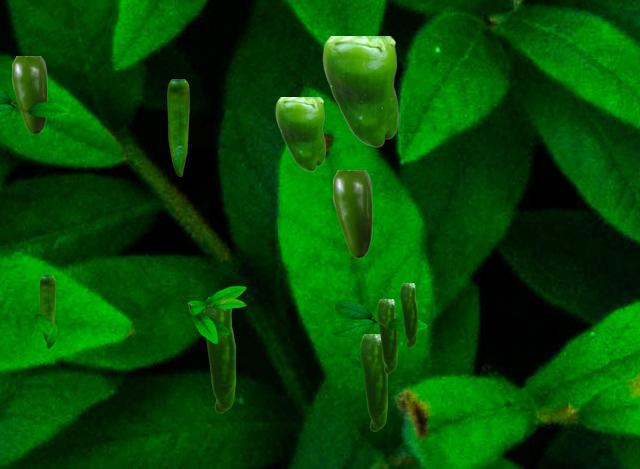green_chili: (322, 36, 397, 146), (275, 97, 324, 170), (203, 297, 234, 412), (333, 170, 371, 257), (12, 56, 46, 133), (360, 334, 386, 430), (167, 79, 188, 175), (377, 299, 396, 372), (400, 283, 416, 346), (39, 275, 54, 342)
